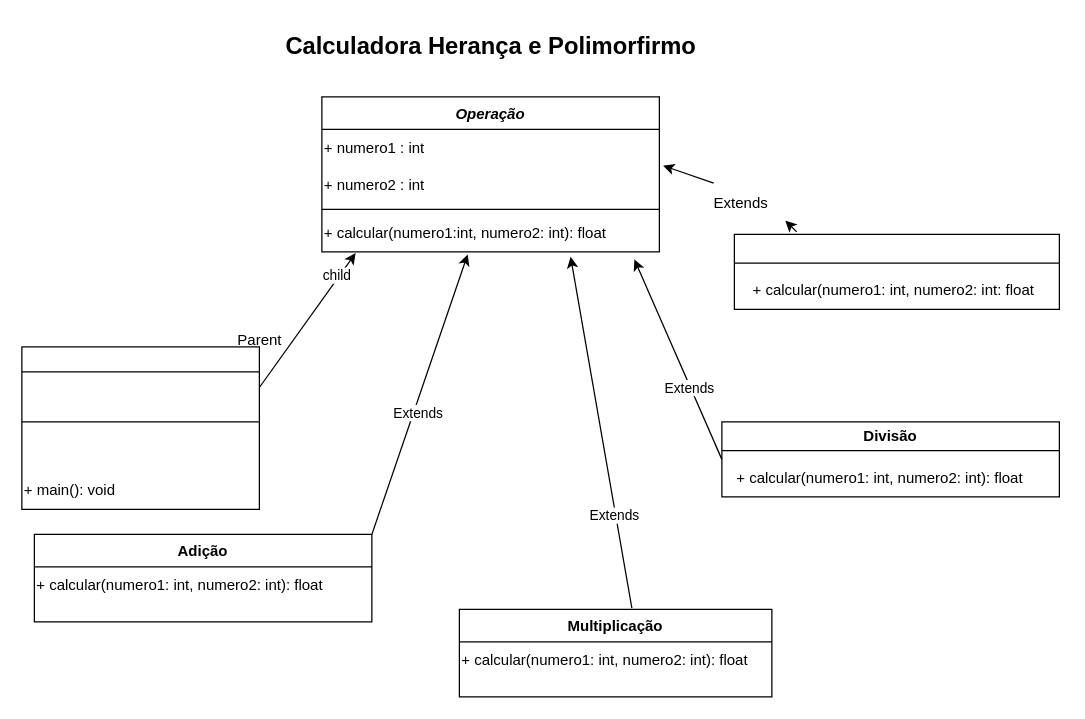
Image size: 1085x719. Some labels were removed from this diagram. The shapes that lost their labels are listed below. From the top down, each one's box as (x1, y1, x2, y2) in pixels, then its label:
(733, 233, 1059, 309): Subtração
(21, 346, 259, 509): Calculadora
